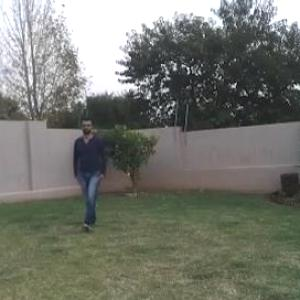follow: (72, 117, 108, 230)
